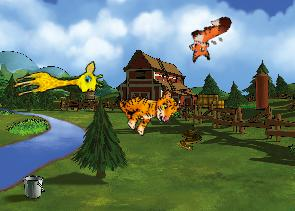fox: (180, 13, 241, 66)
giraffe: (11, 59, 105, 108)
tiger: (113, 74, 183, 142)
